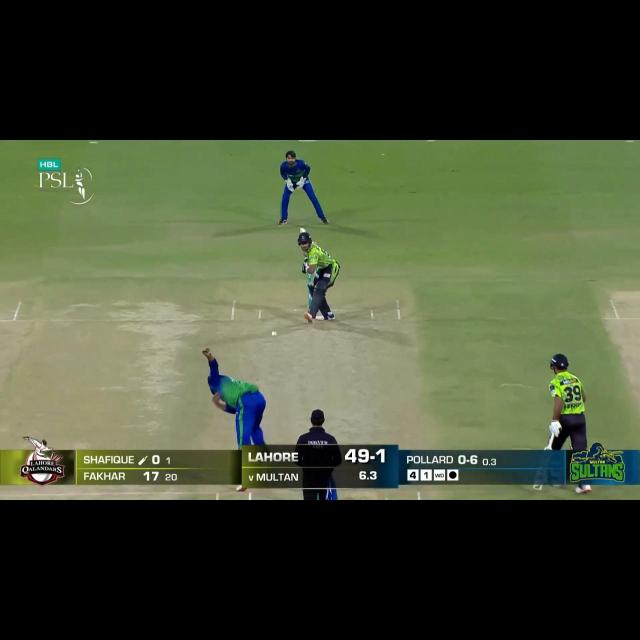bat: (544, 442, 552, 451), (304, 251, 308, 258)
toe: (534, 484, 544, 491), (299, 226, 307, 233)
